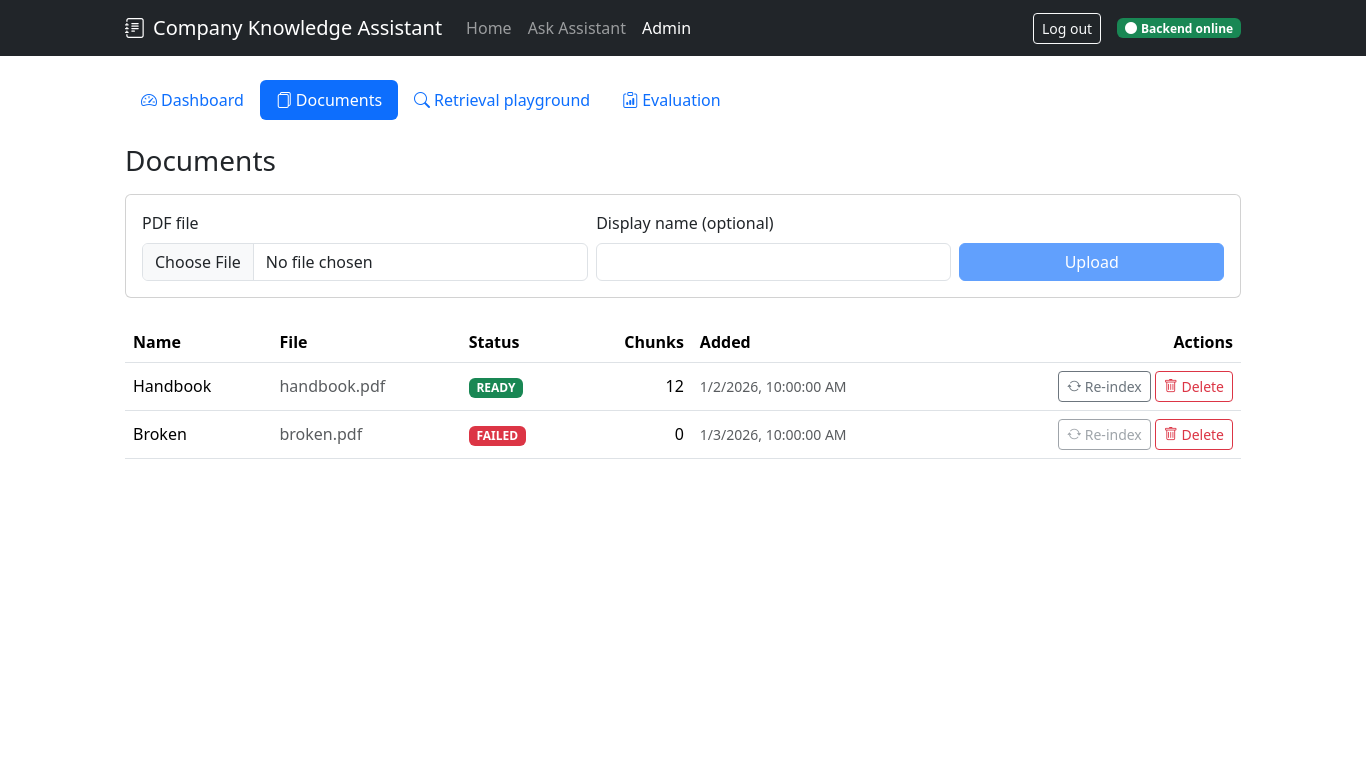
Scenario: admin panel › document management › shows an error when re-indexing fails
Click the button with aria-label "Re-index Handbook".
click(1104, 386)  # box [1058, 371, 1151, 402]
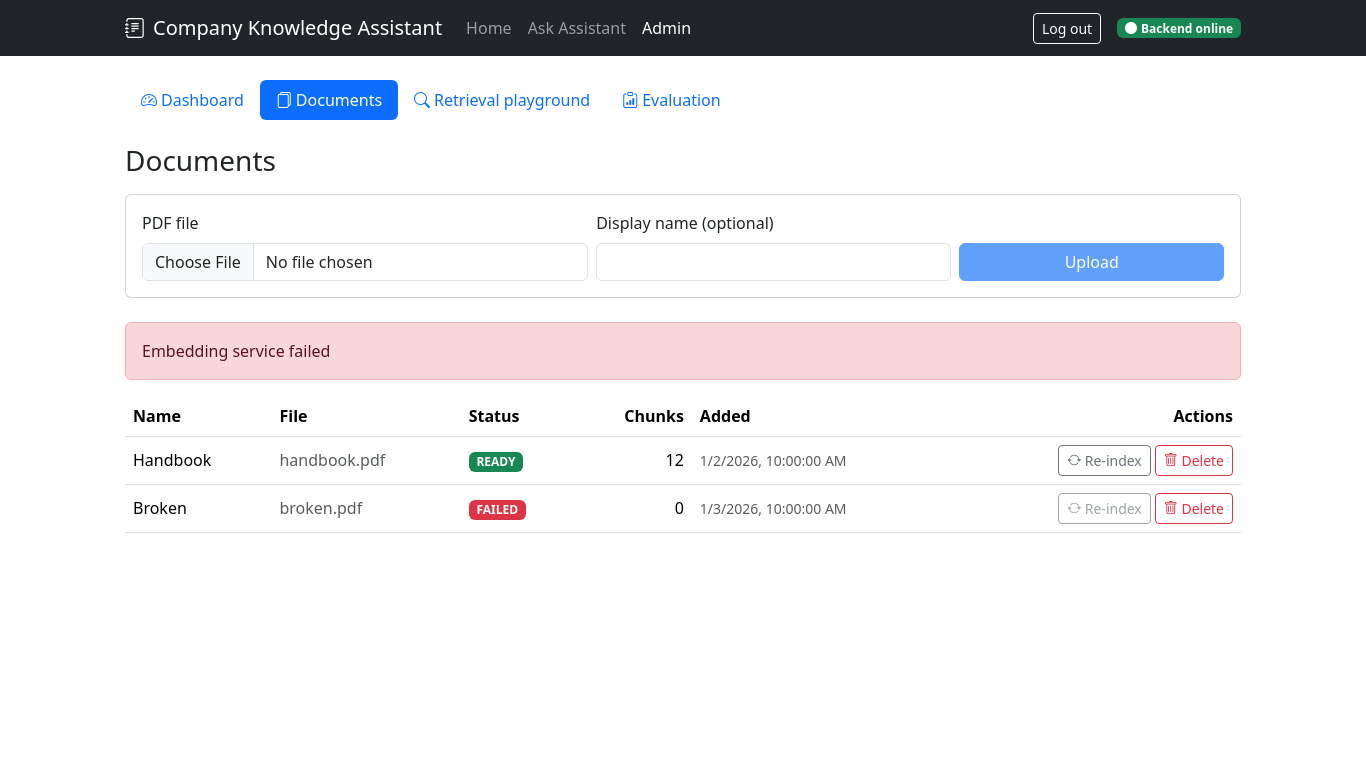
Now the message "Embedding service failed" is shown, box [125, 322, 1241, 380]
